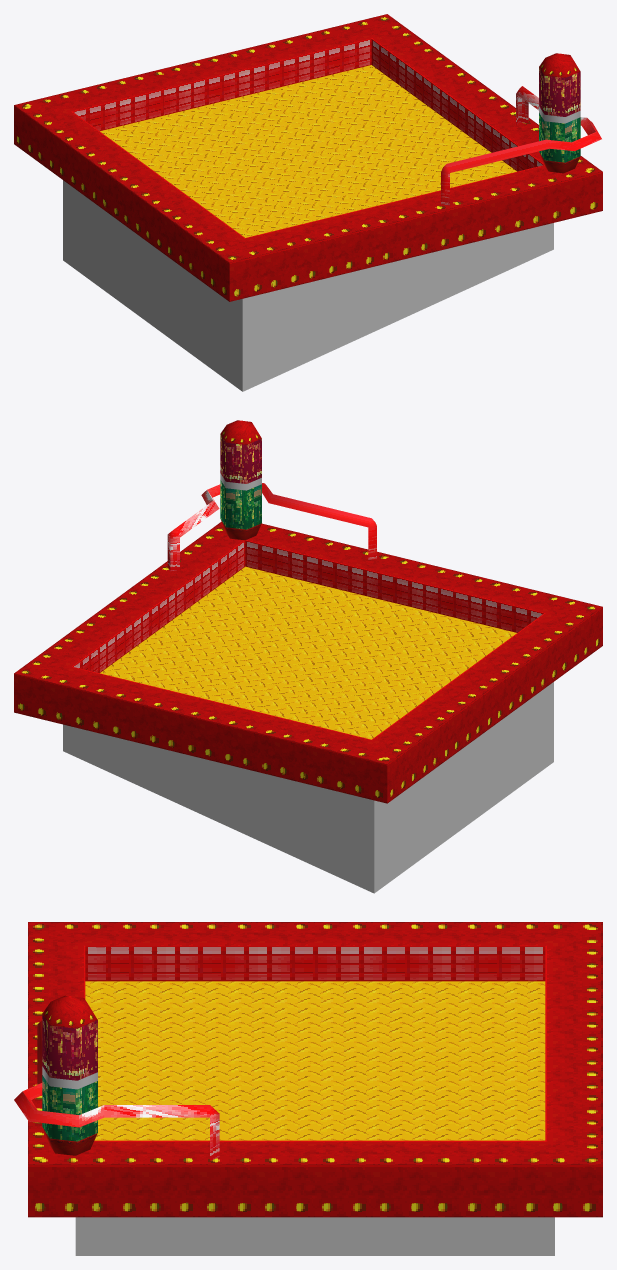
File: CranePlatform.obj
The picture shows the model from 3 angles, top to bottom: view 1: azimuth 30°, elevation 25°; view 2: azimuth 150°, elevation 25°; view 3: azimuth 270°, elevation 25°; orthographic projection. The views are drawn at different scales.
Bounding box in the file's own units: 86.03 × 56.56 × 86.03.
